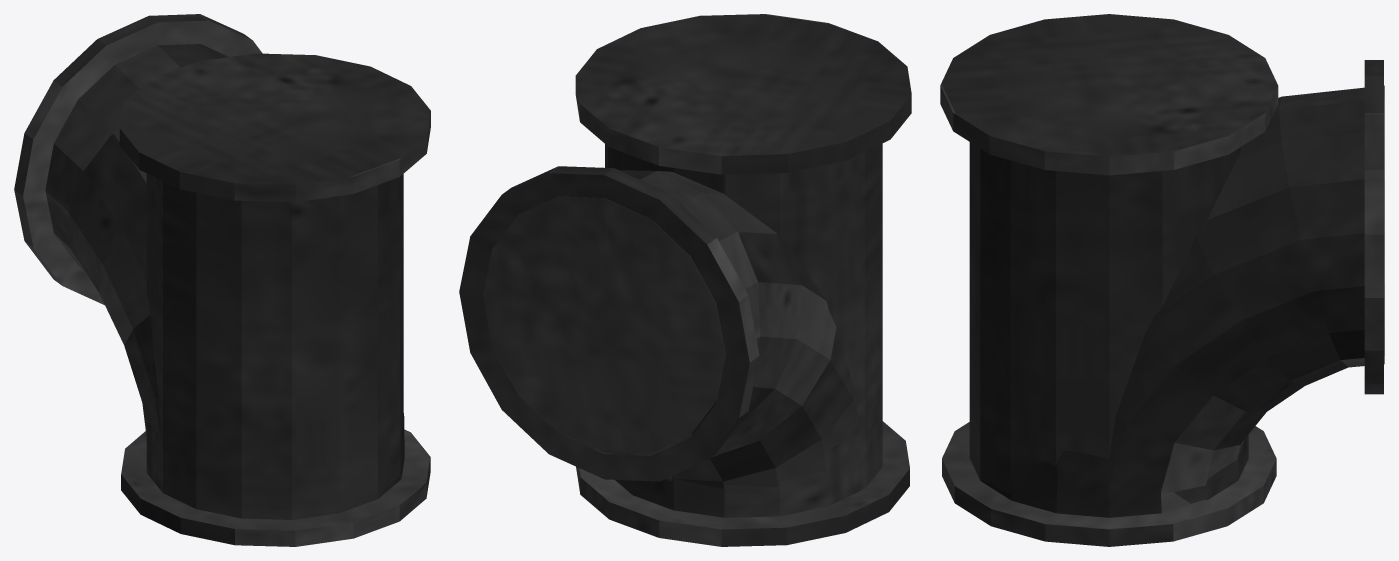
File: pipes.fbx
3 renders of one model, left to right at view 1: azimuth 30°, elevation 25°; view 2: azimuth 150°, elevation 25°; view 3: azimuth 270°, elevation 25°, orthographic. The views are drawn at different scales.
Parts seen in each view (by area): view 1: Circle.001, Circle; view 2: Circle, Circle.001; view 3: Circle.001, Circle.
Part boxes in pixels (x1=…): Circle.001: x1=119, y1=53, x2=430, y2=546; Circle: x1=14, y1=14, x2=430, y2=538; Circle: x1=459, y1=166, x2=859, y2=537; Circle.001: x1=575, y1=14, x2=911, y2=546; Circle.001: x1=940, y1=14, x2=1278, y2=528; Circle: x1=942, y1=60, x2=1384, y2=546.
Size of the model in its own units: 79.59 by 79.18 by 60.52.
1 material, 1 textured.
